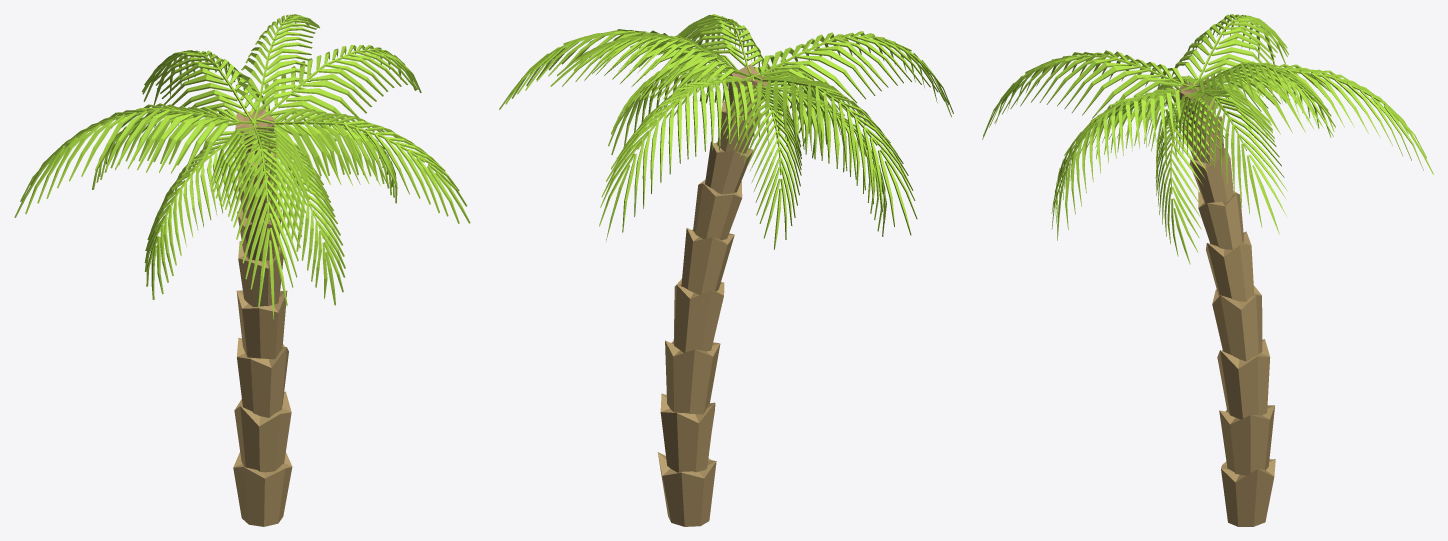
File: tree_2.fbx
The picture shows the model from 3 angles, left to right: view 1: azimuth 30°, elevation 25°; view 2: azimuth 150°, elevation 25°; view 3: azimuth 270°, elevation 25°; orthographic projection. The views are drawn at different scales.
Parts seen in each view (by area): view 1: tree_1.002; view 2: tree_1.002; view 3: tree_1.002.
Part boxes in pixels (x1,y1,x2,y2): tree_1.002: (14,14,470,526); tree_1.002: (499,14,953,526); tree_1.002: (982,14,1433,526).
Size of the model in its own units: 7100 by 7999 by 7005.
